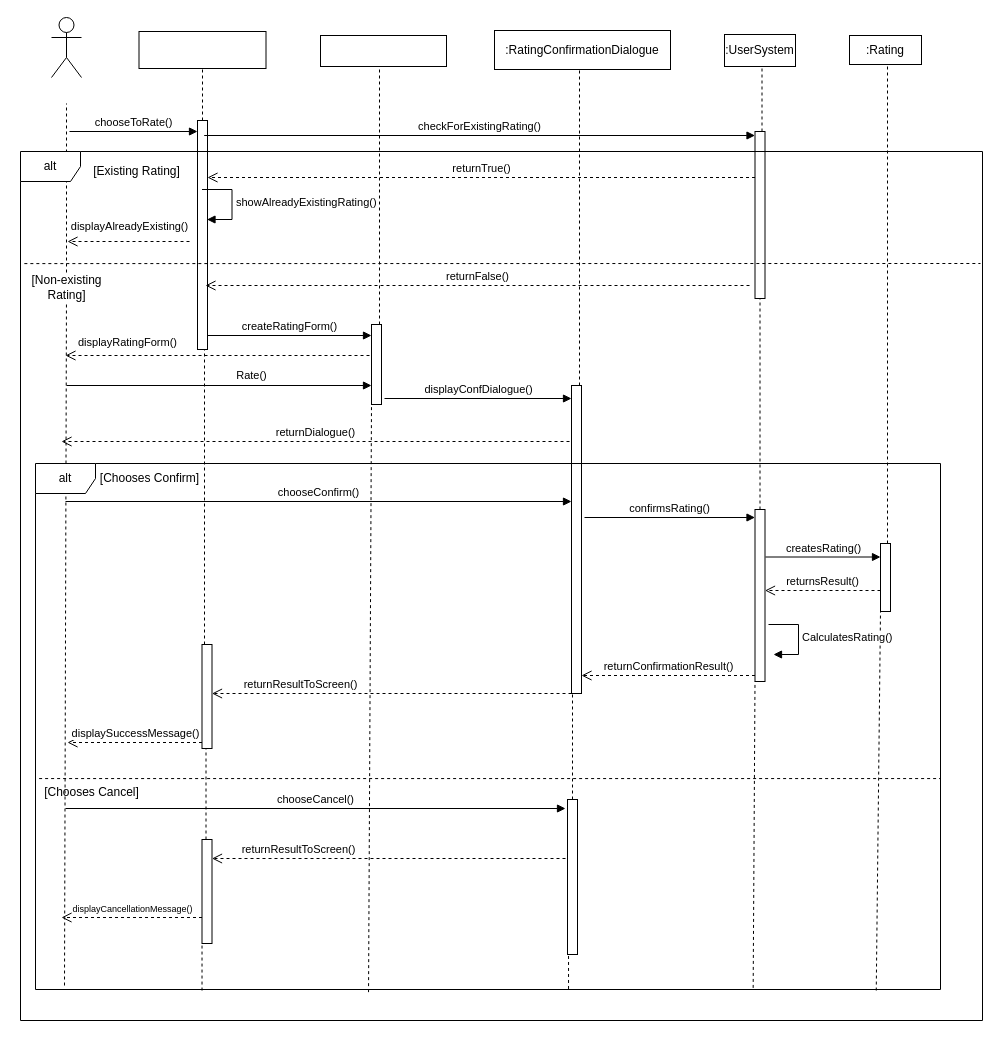
Image size: 1000x1038. Some labels were removed from this diagram. The shapes that lost their labels are listed below. From the top down, each one's centre as x and y in pixels, then its label:
point 66,47: User
point 202,49: :UserDetailsScreen
point 383,50: :RateUserScreen
